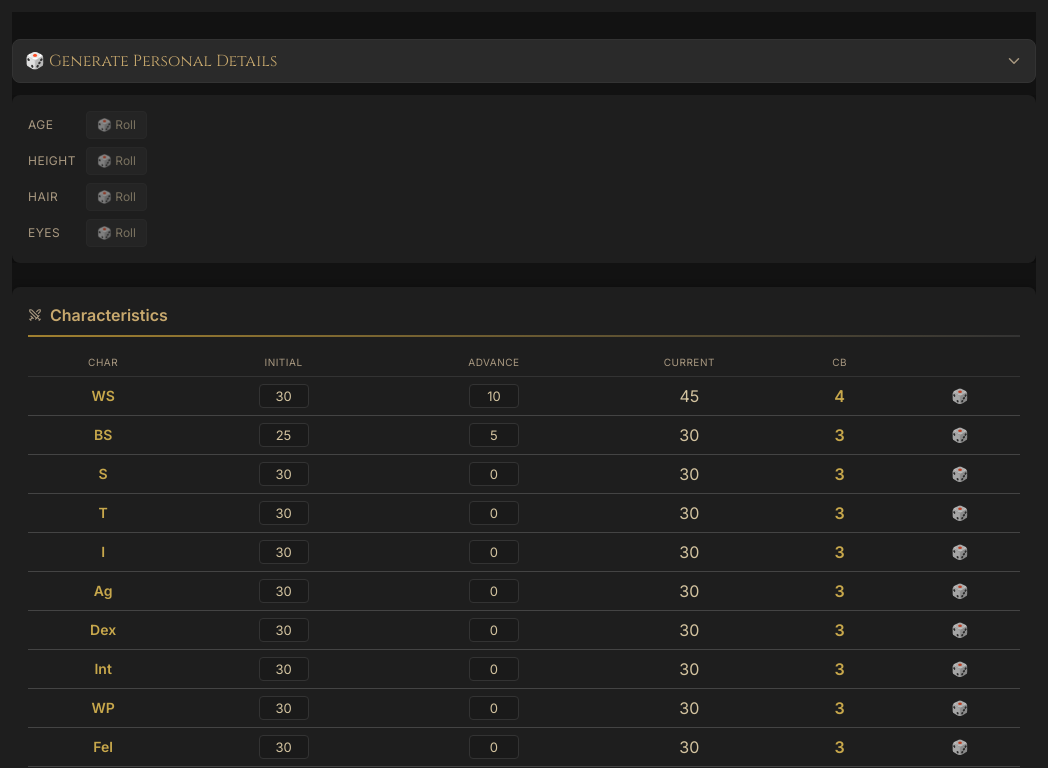
Test: CharCurrentTooltip integration › click Current cell opens tooltip with correct breakdown, Escape closes it
Click opens tooltip
Click the button "45" at (689, 396), box 679,386 -> 699,406
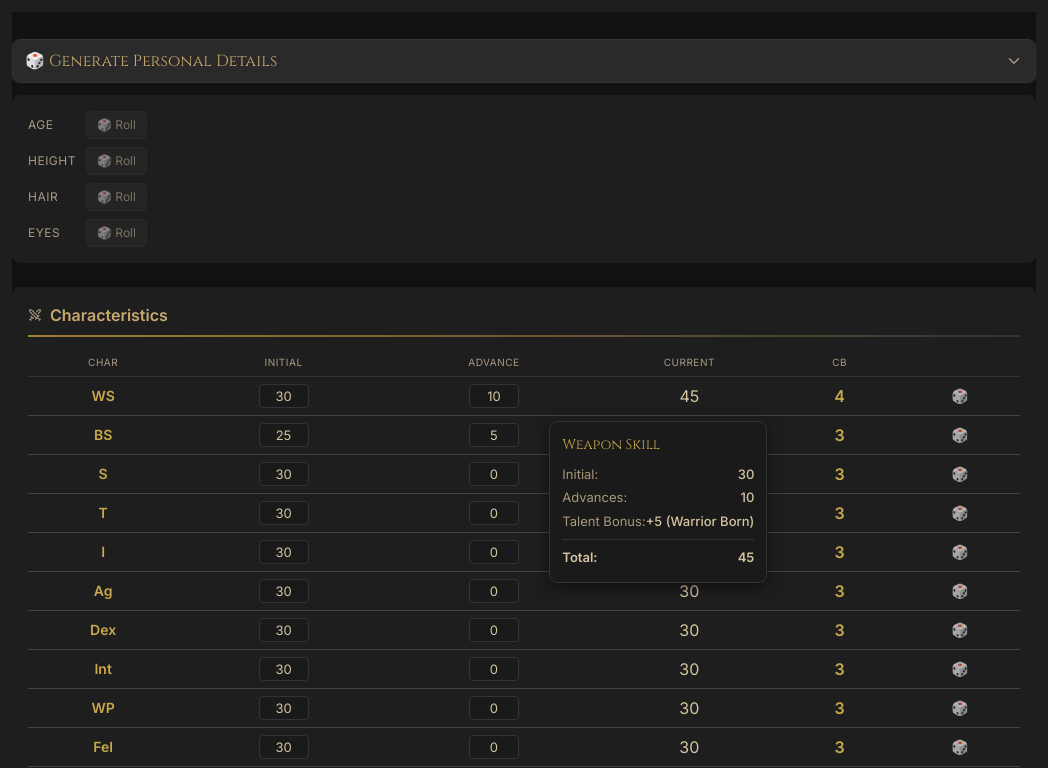
Check: the tooltip with id "tooltip-char-WS" is shown, box 549,420 -> 767,582
Check: the tooltip with id "tooltip-char-WS" shows "Weapon Skill", box 562,434 -> 660,454
Check: the tooltip with id "tooltip-char-WS" shows "30", box 738,466 -> 754,482
Press Escape closes tooltip
Press Escape
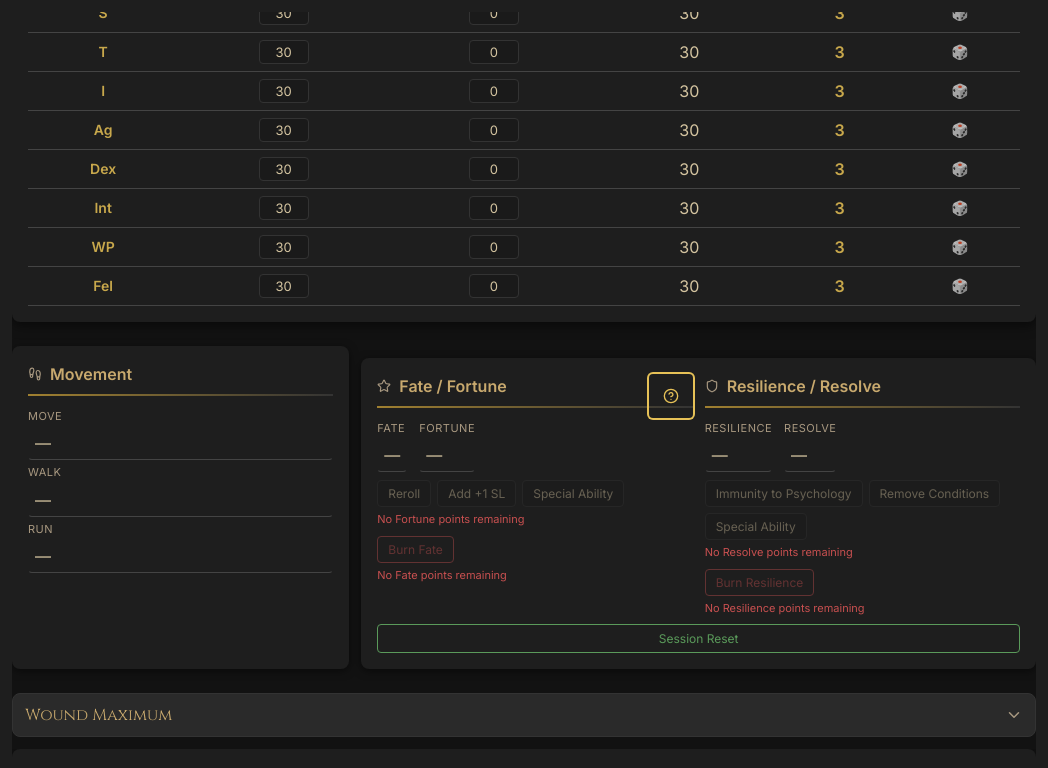
Check: the tooltip with id "tooltip-char-WS" is gone
